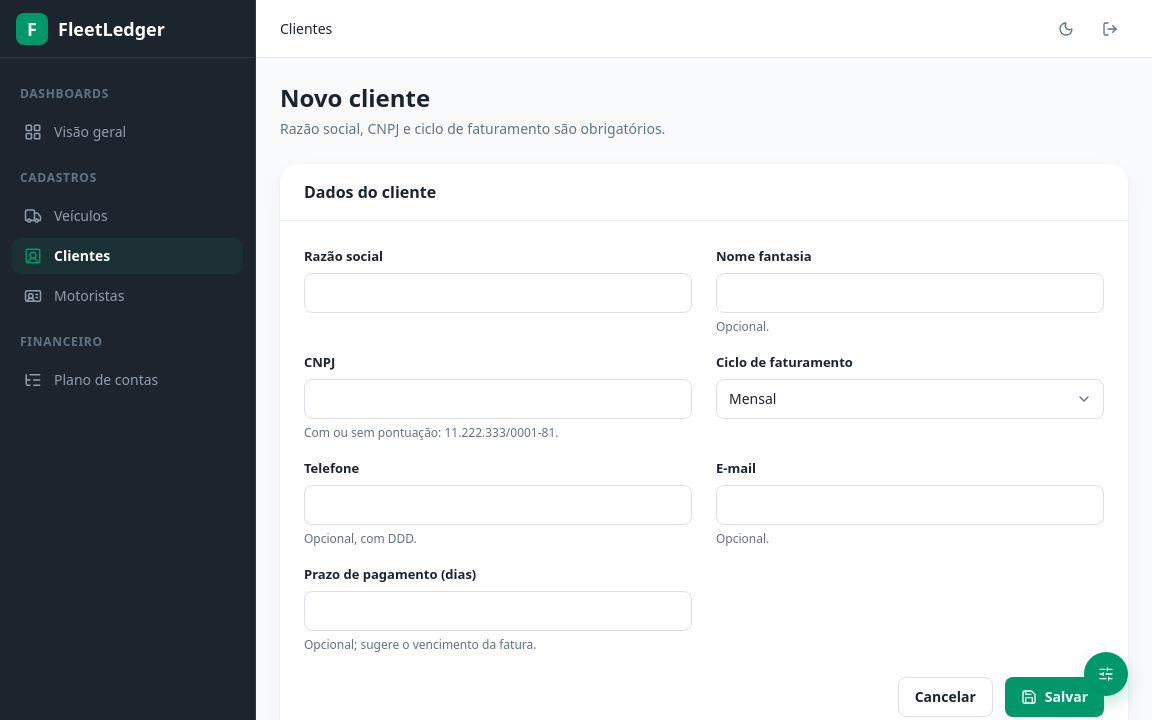
NewCustomerPage › shows the duplicate CNPJ refusal
This screenshot has width=1152, height=720.
Type "Agro Sul Ltda" into the field labelled "Razão social".
click(498, 293); type("Agro Sul Ltda")  # box [304,273,692,313]
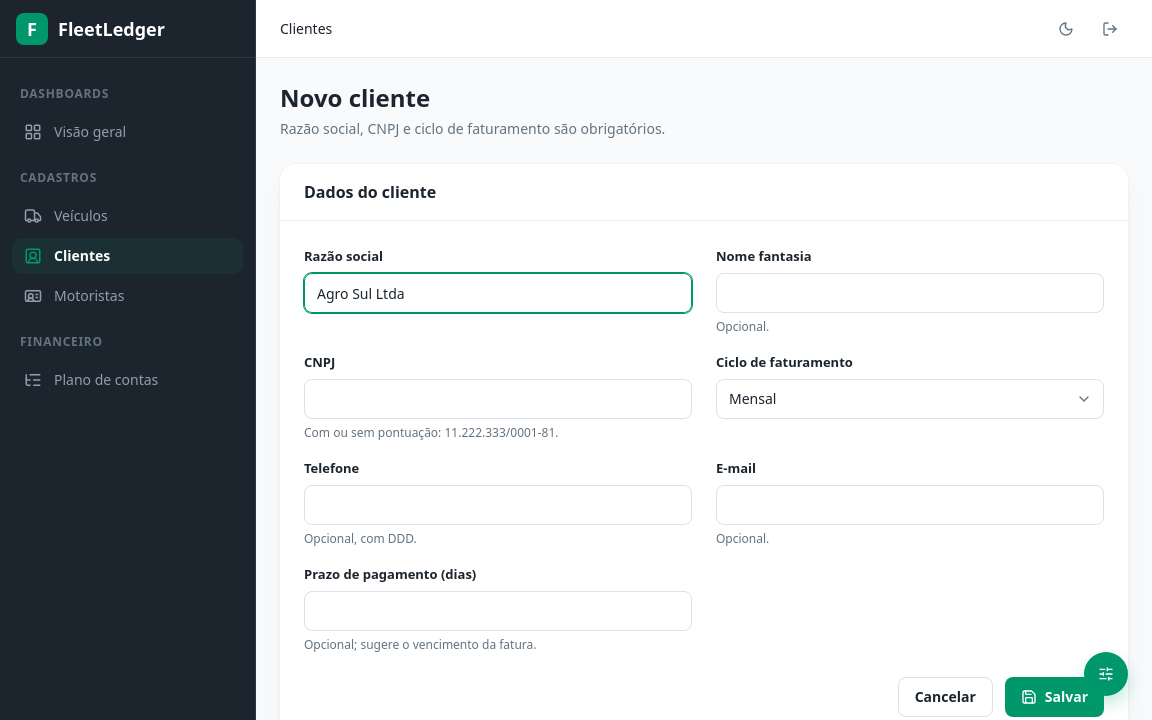
Type "11.222.333/0001-81" into the field labelled "CNPJ".
click(498, 399); type("11.222.333/0001-81")  # box [304,379,692,419]
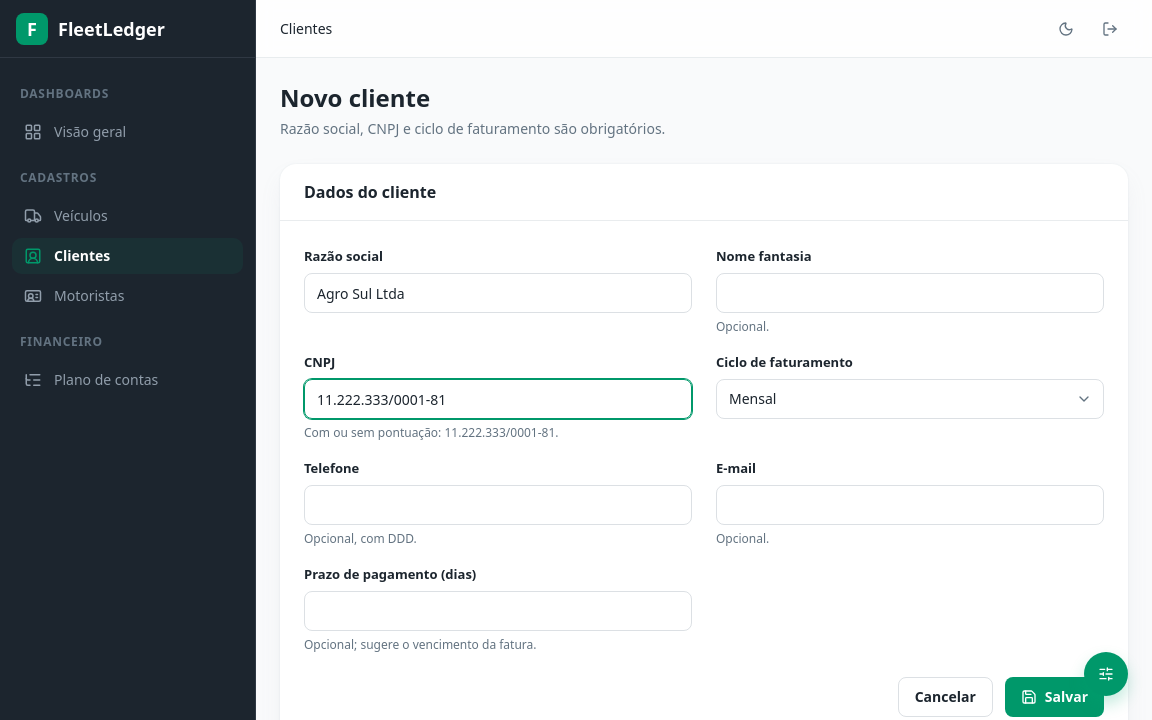
Select "Quinzenal" in the dropdown labelled "Ciclo de faturamento" at coordinates (910, 399), box [716,379,1104,419]
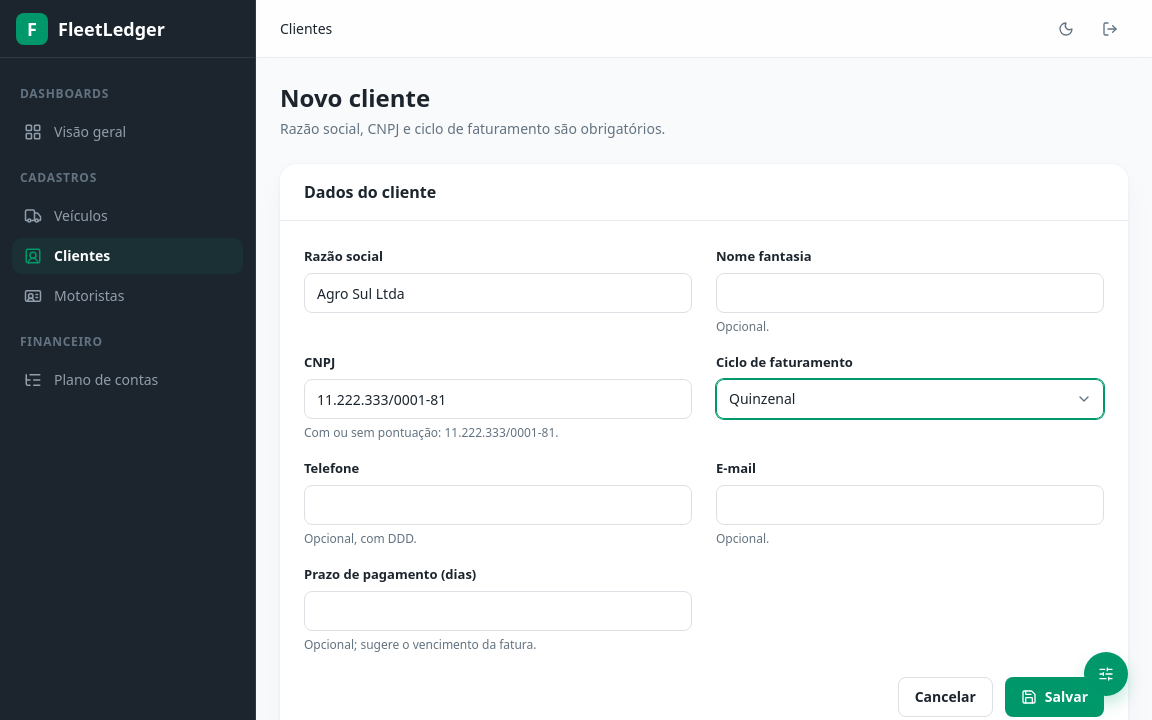
Click the button "Salvar".
click(1054, 697)  # box [1005,677,1104,717]
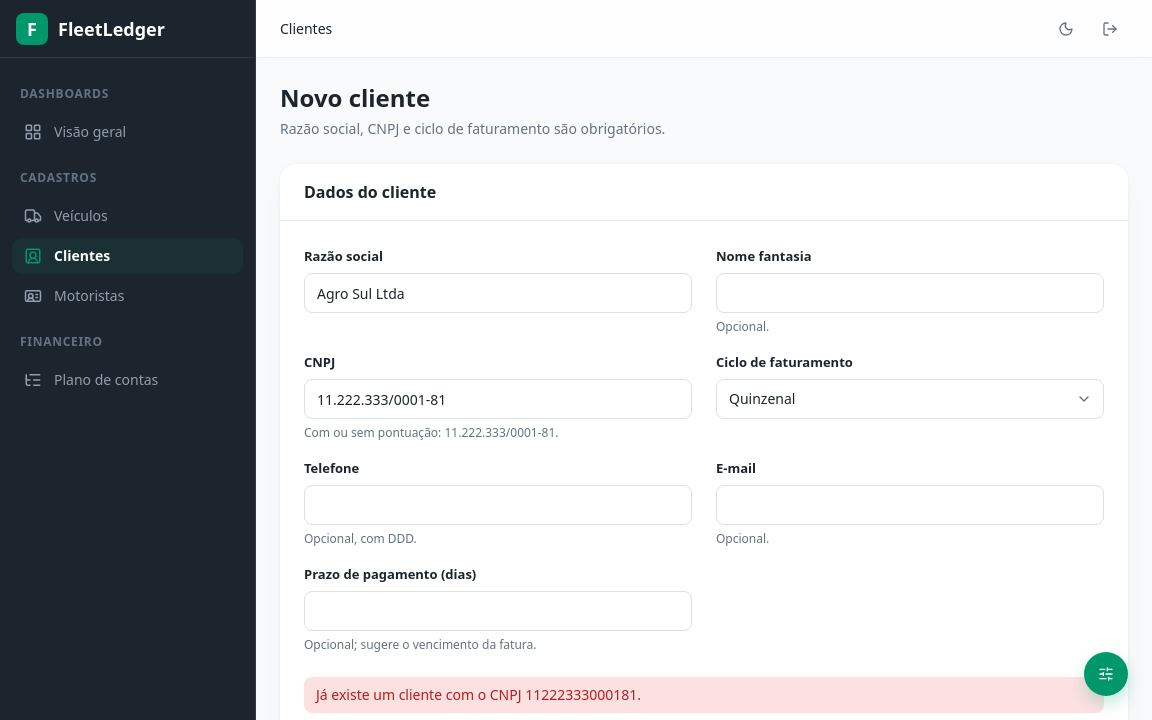
Now the message reads "Já existe um cliente com o CNPJ 11222333000181.", box [316,685,641,704]
